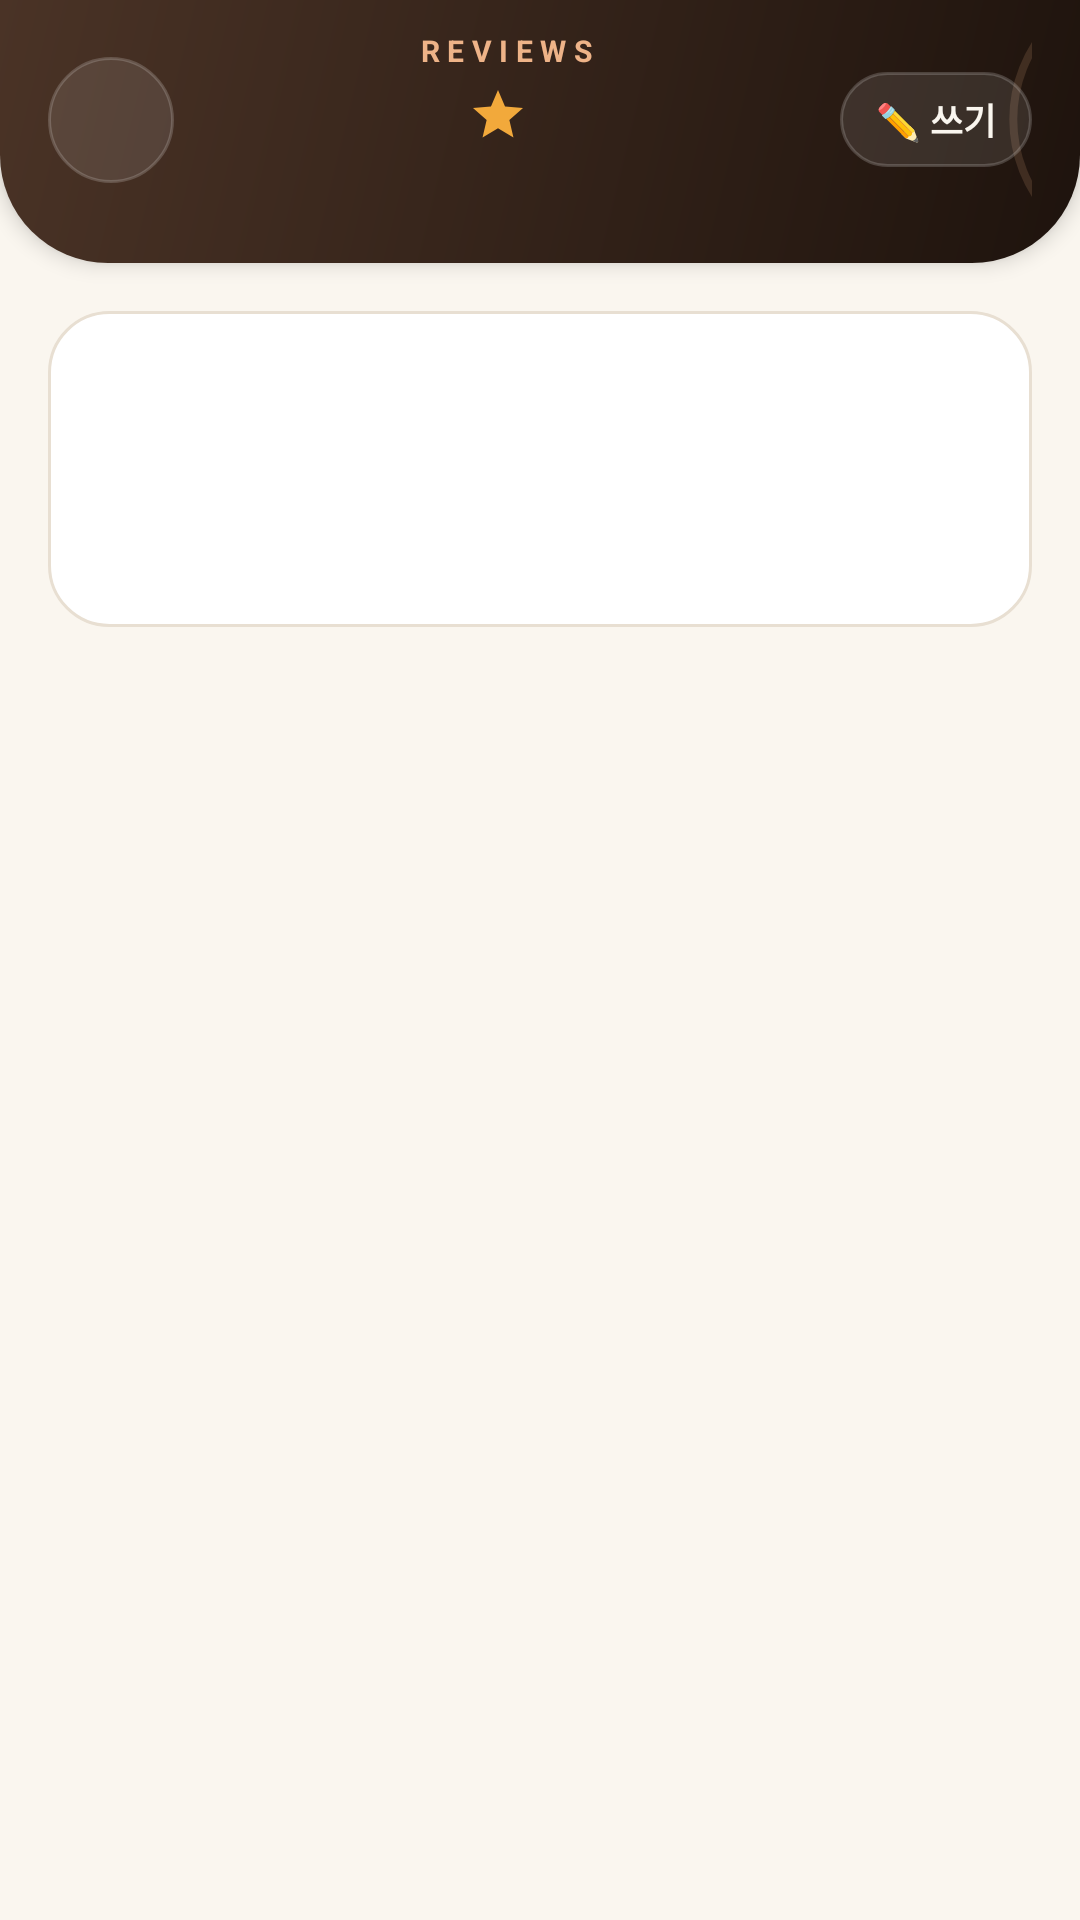

Named icons in this screenshot (1080*1920) and their centers, [x,y]:
star: [498,114]
